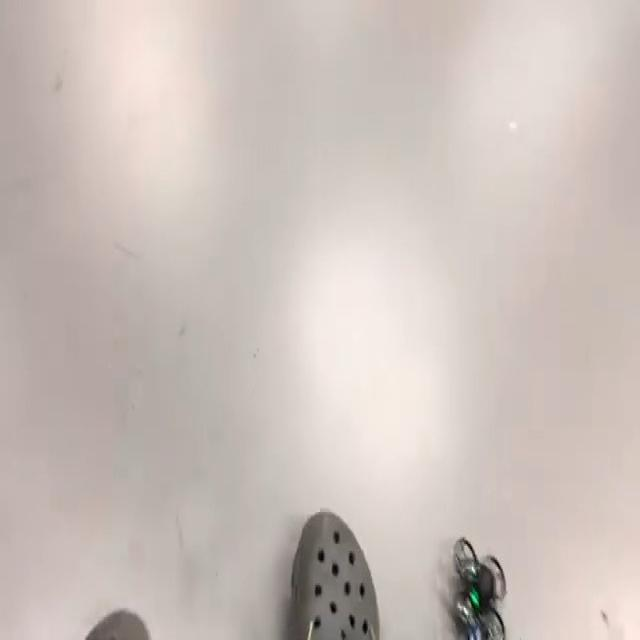drone: (438, 526, 519, 640)
